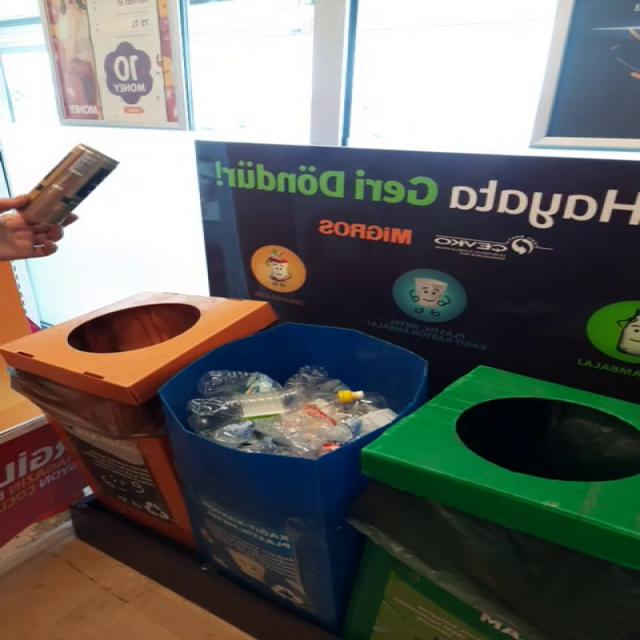bin: (0, 292, 427, 631)
metal: (19, 144, 117, 225)
